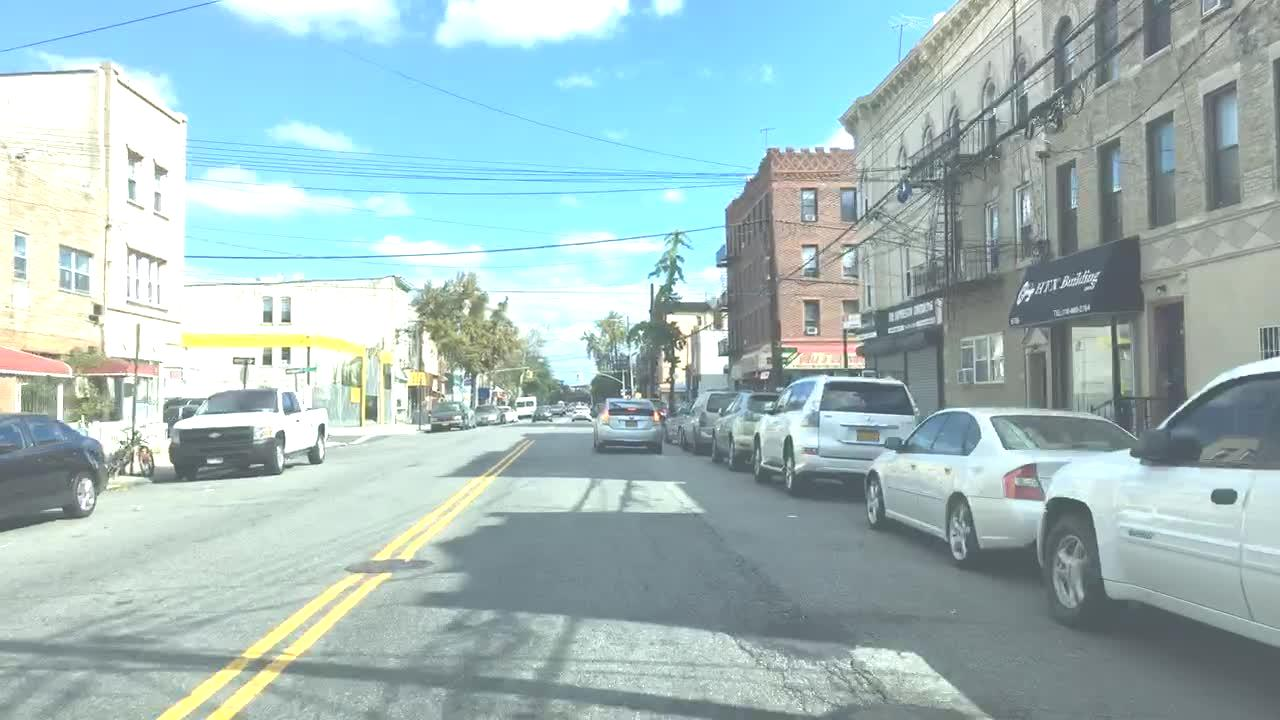chevrolet: (207, 431, 224, 440)
